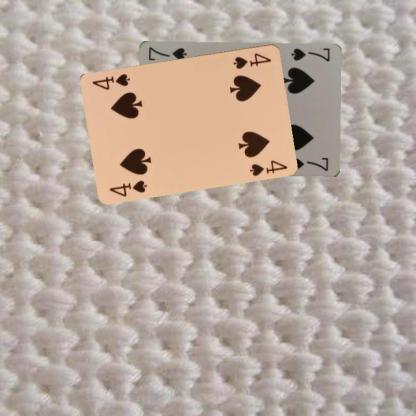4s: (231, 50, 273, 70), (107, 178, 148, 198)
7s: (288, 46, 330, 63)
